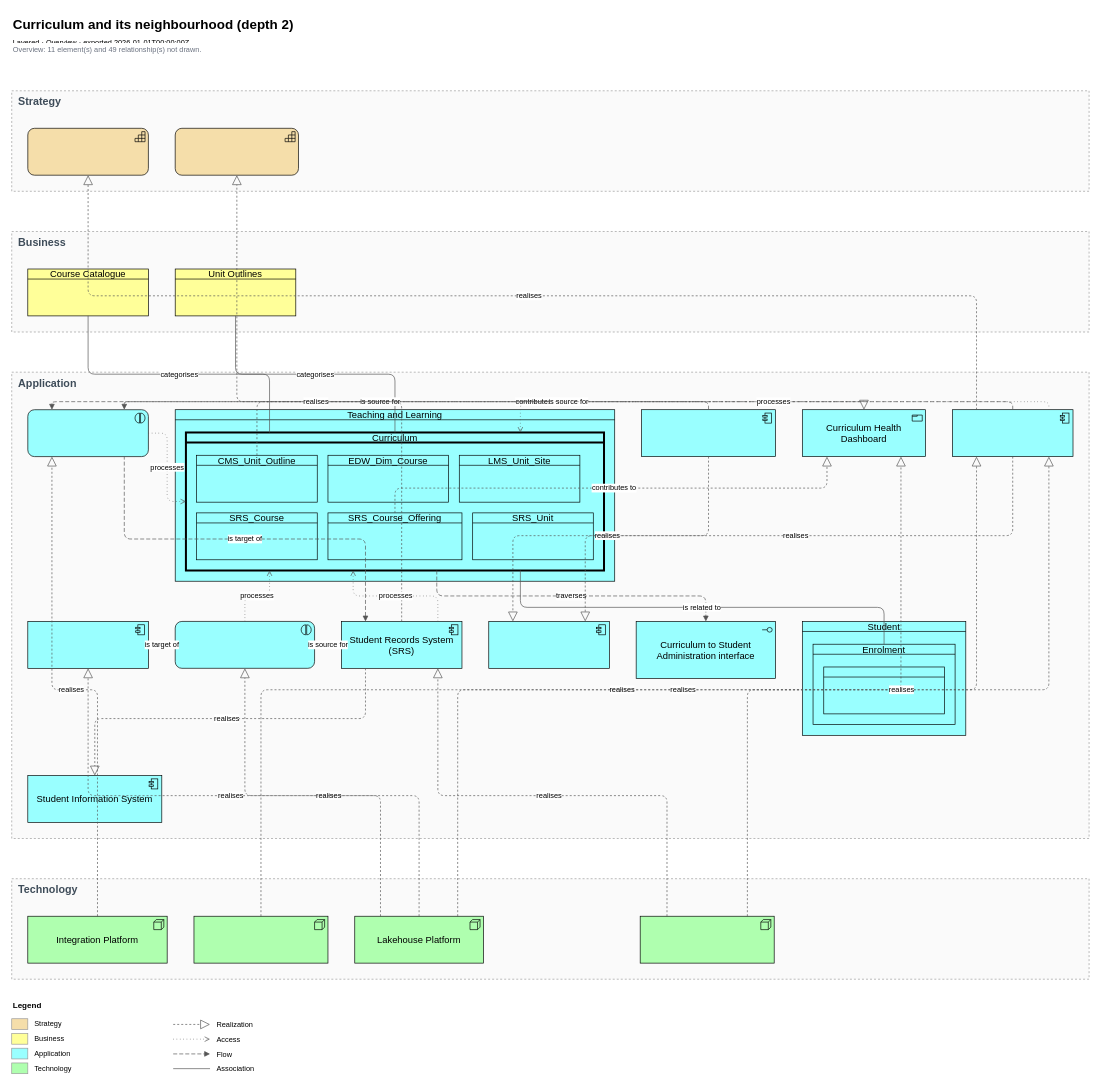
Some shapes in this 1101 by 1087 pixel diagram are drawn without their labels. The shapes that lost their labels are listed below. From the top down, each one's centre as x and y in pixels, then its label:
At point (87, 151): "Curriculum Development".
At point (236, 151): "Student Enrolment Management".
At point (87, 433): "CMS to SRS curriculum sync".
At point (708, 433): "Curriculum Approval Workflow".
At point (1012, 433): "Curriculum Management System".
At point (87, 644): "Enterprise Data Warehouse".
At point (245, 644): "SRS to EDW ingestion".
At point (548, 644): "Curriculum Management".
At point (883, 690): "SRS_Enrolment".
At point (260, 939): "Legacy Forms Server".
At point (707, 939): "Relational Database Platform".
